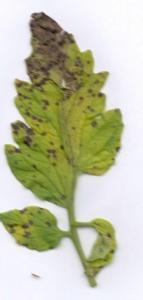Tomato Septoria leaf spot: (4, 9, 132, 207), (3, 198, 66, 261)
